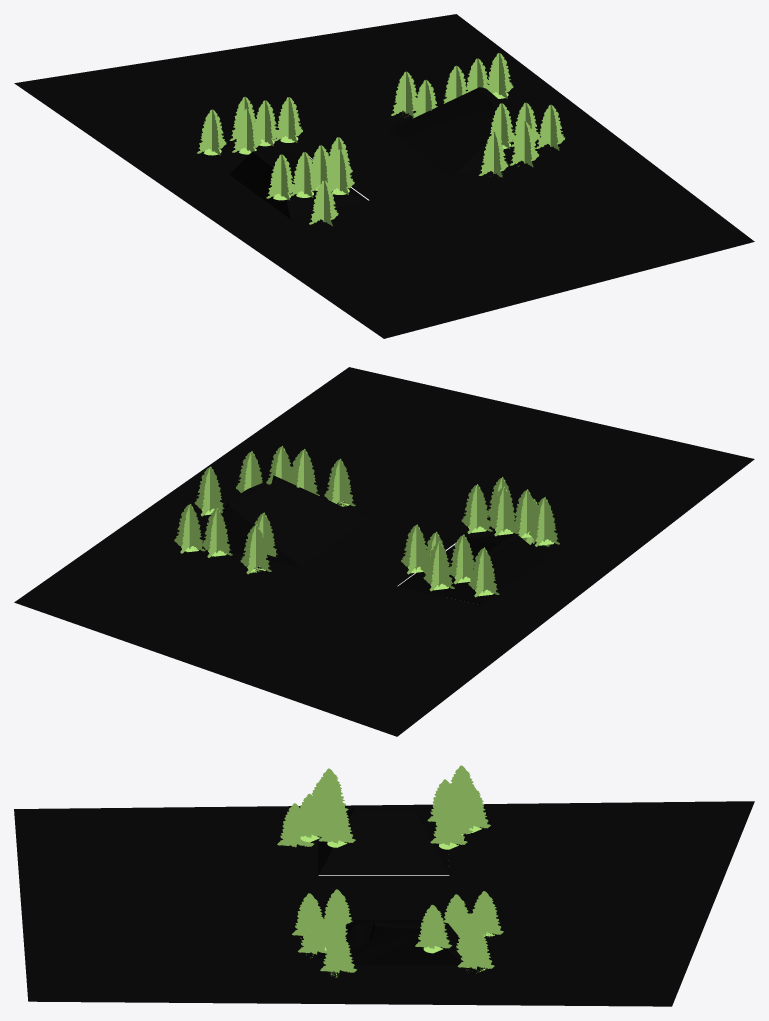
File: bridge7_environment.obj
3 views of the same model, one above another, from view 1: azimuth 30°, elevation 25°; view 2: azimuth 150°, elevation 25°; view 3: azimuth 270°, elevation 25° (orthographic). The views are drawn at different scales.
Visible parts, largest first — view 1: mesh_0, mesh_2, mesh_8, mesh_21, mesh_10, mesh_3, mesh_5, mesh_1, mesh_17, mesh_12, mesh_19, mesh_14 (+6 smaller); view 2: mesh_0, mesh_3, mesh_11, mesh_7, mesh_20, mesh_2, mesh_4, mesh_9, mesh_13, mesh_14, mesh_1, mesh_10 (+4 smaller); view 3: mesh_0, mesh_1, mesh_11, mesh_8, mesh_5, mesh_19, mesh_9, mesh_13, mesh_4, mesh_17, mesh_15, mesh_12 (+7 smaller).
Part boxes in pixels (<box>): mesh_0: <box>14,14,754,338</box>; mesh_2: <box>197,109,226,155</box>; mesh_8: <box>273,97,302,142</box>; mesh_21: <box>289,152,318,197</box>; mesh_10: <box>232,108,261,154</box>; mesh_3: <box>266,154,294,200</box>; mesh_5: <box>328,149,354,194</box>; mesh_1: <box>486,53,513,98</box>; mesh_17: <box>509,121,539,167</box>; mesh_12: <box>309,180,338,226</box>; mesh_19: <box>536,104,564,150</box>; mesh_14: <box>478,131,508,177</box>; mesh_0: <box>14,367,754,736</box>; mesh_3: <box>529,497,559,546</box>; mesh_11: <box>461,484,492,533</box>; mesh_7: <box>489,486,519,536</box>; mesh_20: <box>202,508,232,557</box>; mesh_2: <box>468,547,499,597</box>; mesh_4: <box>423,541,454,591</box>; mesh_9: <box>174,504,205,553</box>; mesh_13: <box>240,524,271,574</box>; mesh_14: <box>324,458,355,506</box>; mesh_1: <box>194,466,224,516</box>; mesh_10: <box>449,534,474,584</box>; mesh_0: <box>14,801,754,1006</box>; mesh_1: <box>415,904,451,953</box>; mesh_11: <box>319,799,355,847</box>; mesh_8: <box>430,801,467,849</box>; mesh_5: <box>292,793,324,842</box>; mesh_19: <box>320,929,356,977</box>; mesh_9: <box>457,925,494,973</box>; mesh_13: <box>472,891,503,937</box>; mesh_4: <box>461,784,490,832</box>; mesh_17: <box>298,910,325,957</box>; mesh_15: <box>316,905,347,950</box>; mesh_12: <box>277,803,314,847</box>.
Size of the model in its own units: 119 by 17.77 by 182.
